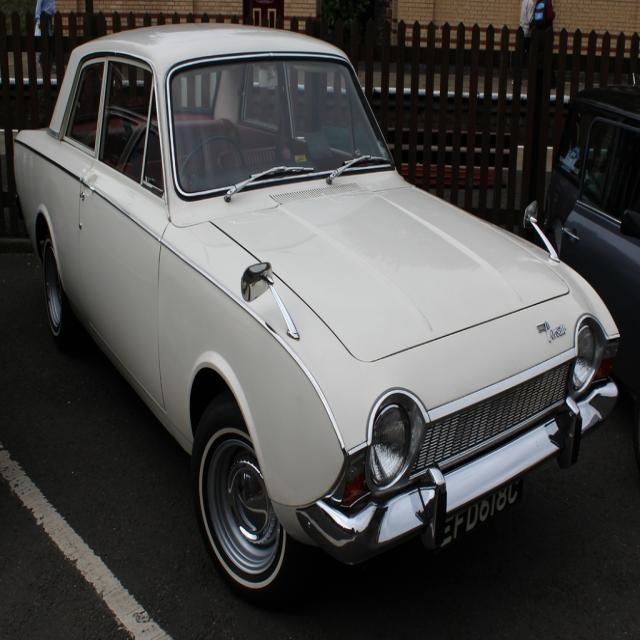car: (12, 19, 622, 589)
